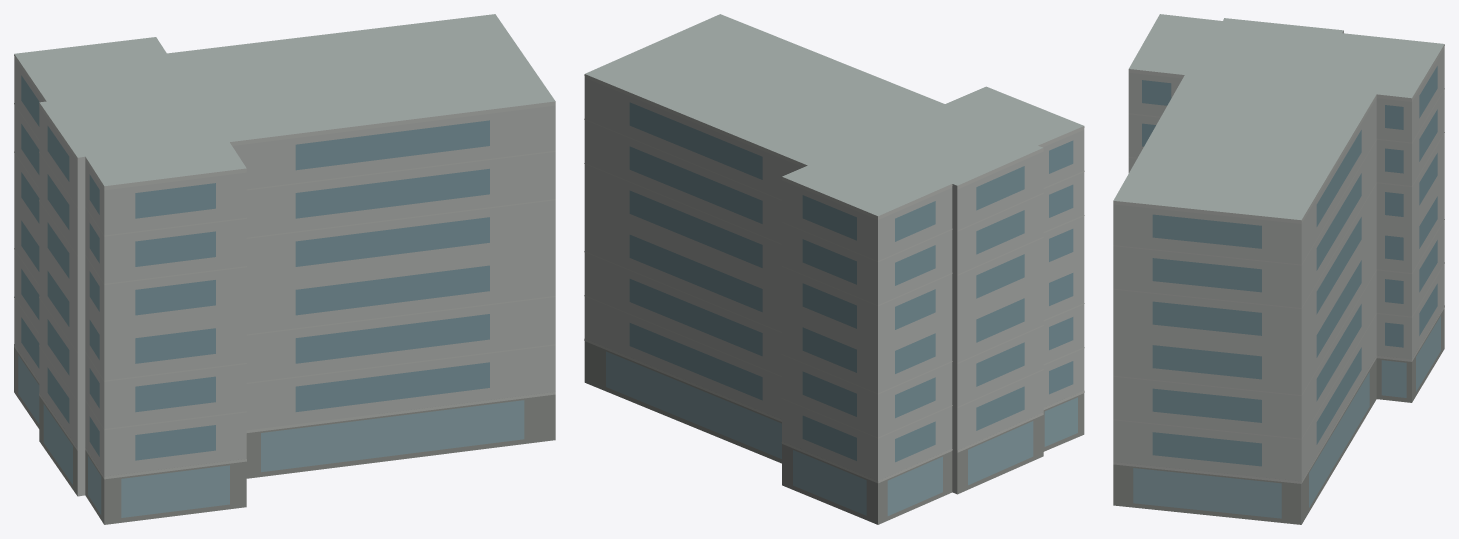
File: survey-upis-33046381.glb
3 views of the same model, side by side, from view 1: azimuth 30°, elevation 25°; view 2: azimuth 150°, elevation 25°; view 3: azimuth 270°, elevation 25° (orthographic). The views are drawn at different scales.
Visible parts, largest first — view 1: survey-upis-33046381.tmp; view 2: survey-upis-33046381.tmp; view 3: survey-upis-33046381.tmp.
Part boxes in pixels (x1,y1,x2,y2): survey-upis-33046381.tmp: (14, 14, 555, 524); survey-upis-33046381.tmp: (584, 14, 1084, 524); survey-upis-33046381.tmp: (1113, 14, 1444, 524).
Size of the model in its own units: 28.77 by 19.8 by 19.54.
